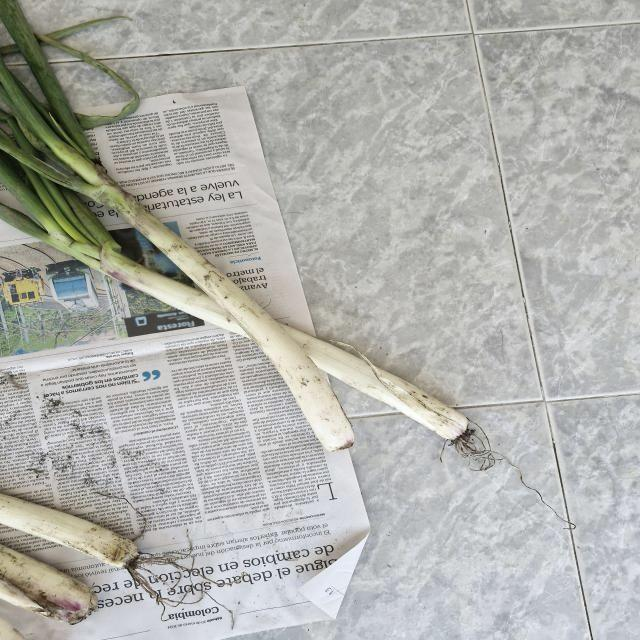green_onion: (0, 0, 489, 458)
